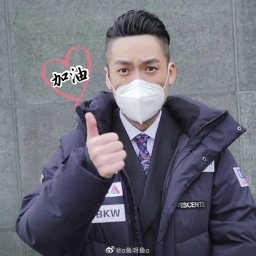correctlyWear: (103, 47, 175, 125)
